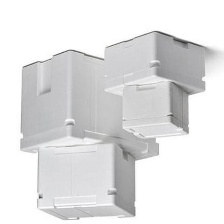foam_box: (15, 46, 162, 165), (32, 138, 139, 224), (99, 29, 209, 104), (117, 78, 192, 141)
